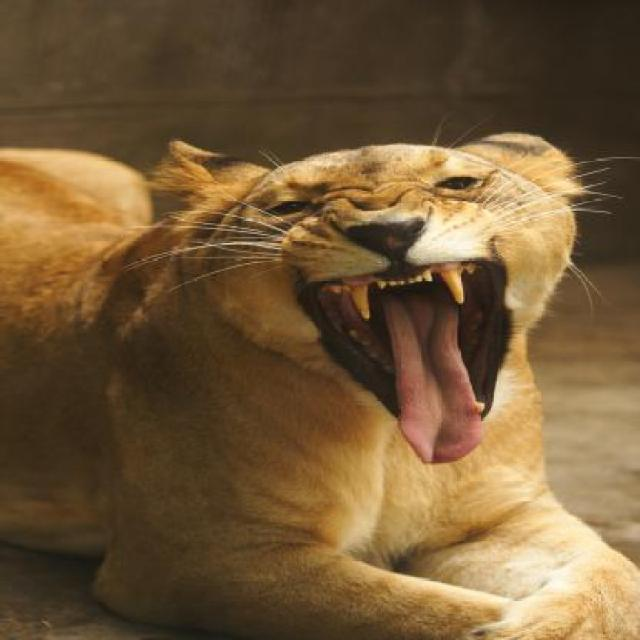Lion: (2, 116, 629, 638)
